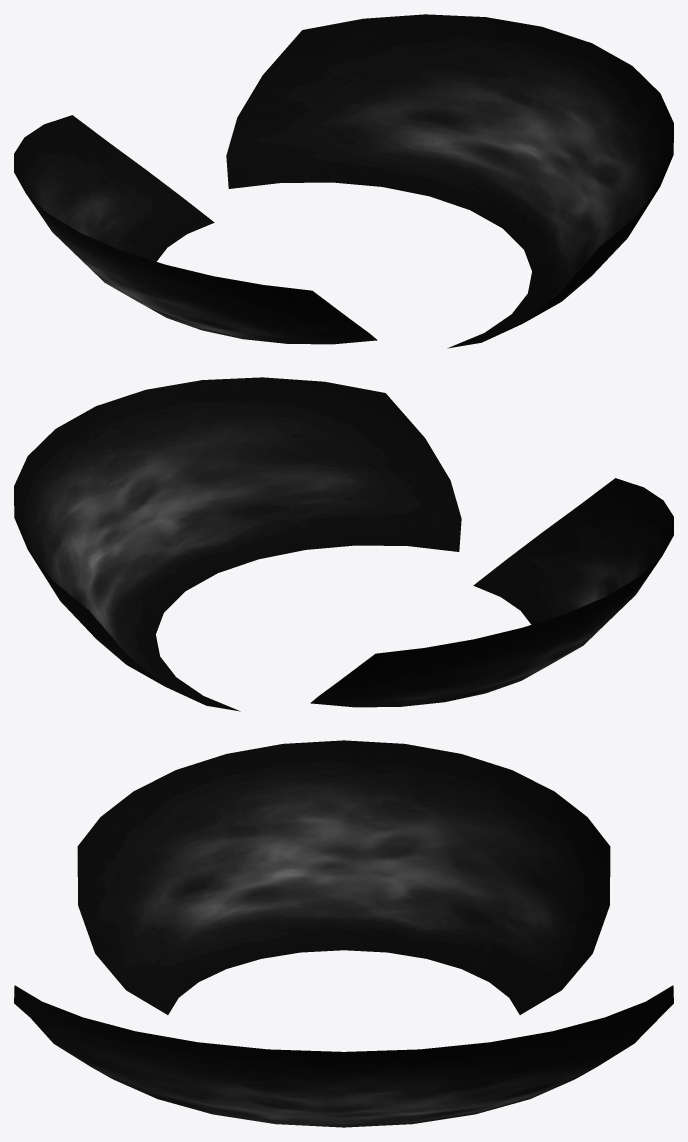
File: 0438_smoke01.glb
3 renders of one model, top to bottom at view 1: azimuth 30°, elevation 25°; view 2: azimuth 150°, elevation 25°; view 3: azimuth 270°, elevation 25°, orthographic. The views are drawn at different scales.
Bounding box in the file's own units: 2.2 × 0.4753 × 1.94.
1 material, 1 textured.
